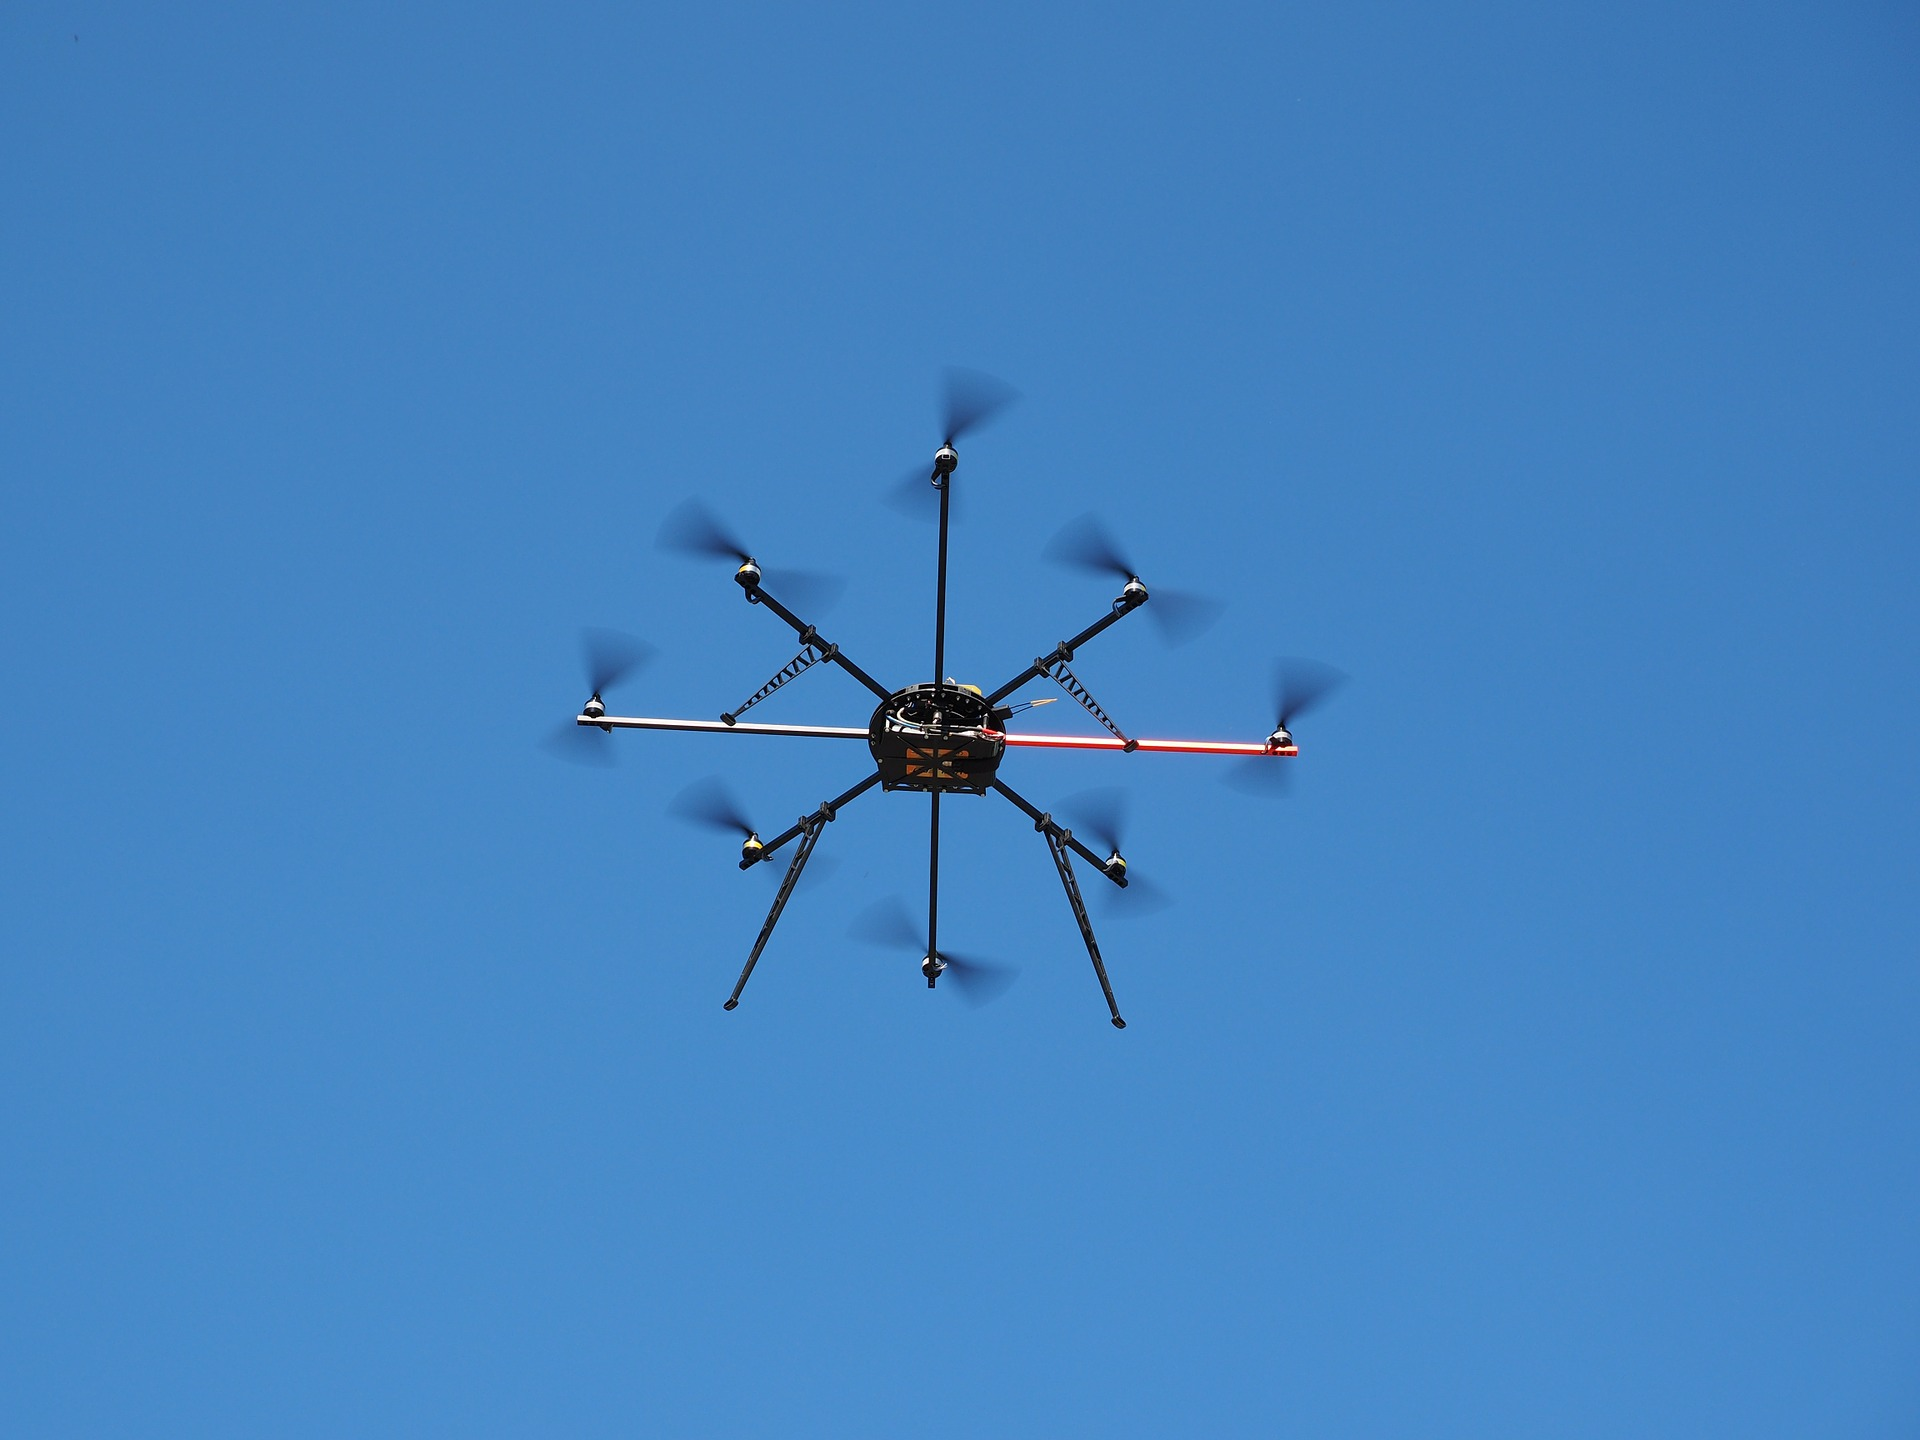drone: (525, 358, 1361, 1041)
